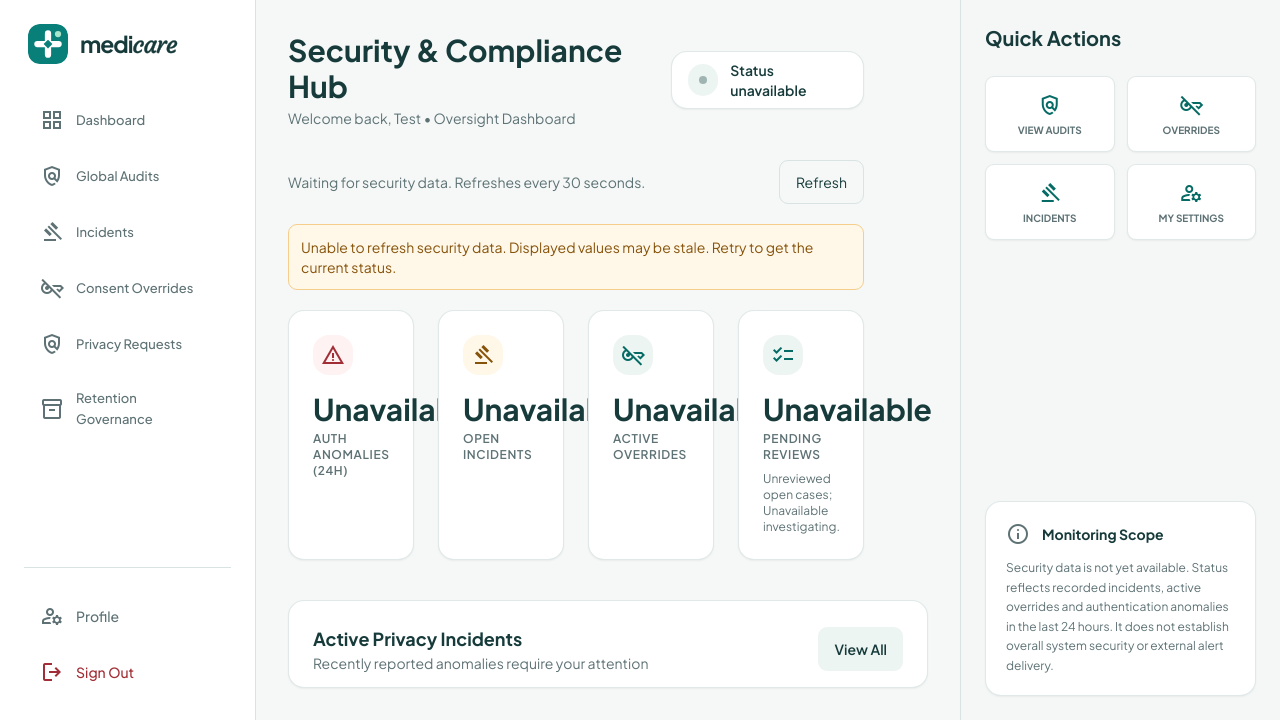
it: initial failure shows unknown status and a retry, never an empty or secure result
Expected: the 2nd message shows "Unable to refresh", [301,238,814,276]
Expected: the text "Status unavailable" is shown, [730,61,806,99]
Click the button with aria-label "Refresh dashboard" at [822, 182], box [779,160,864,204]
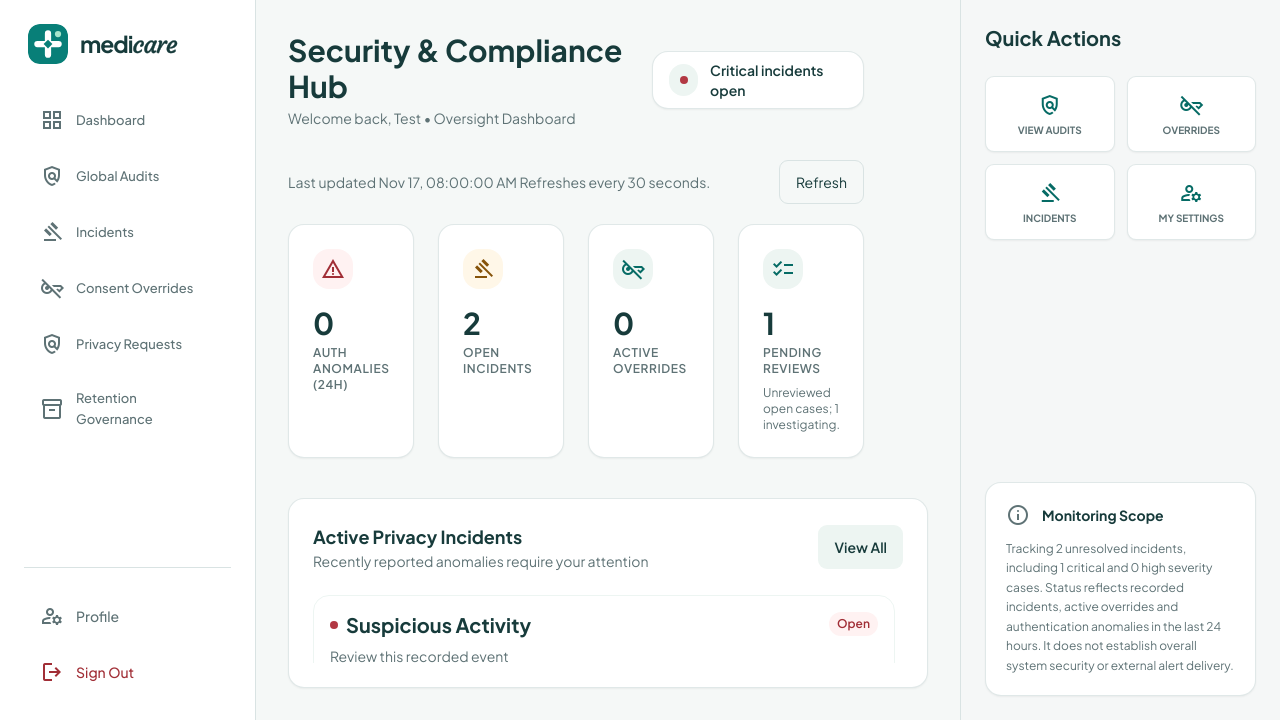
Result: the text "Critical incidents open" is shown at [710,61,824,99]
